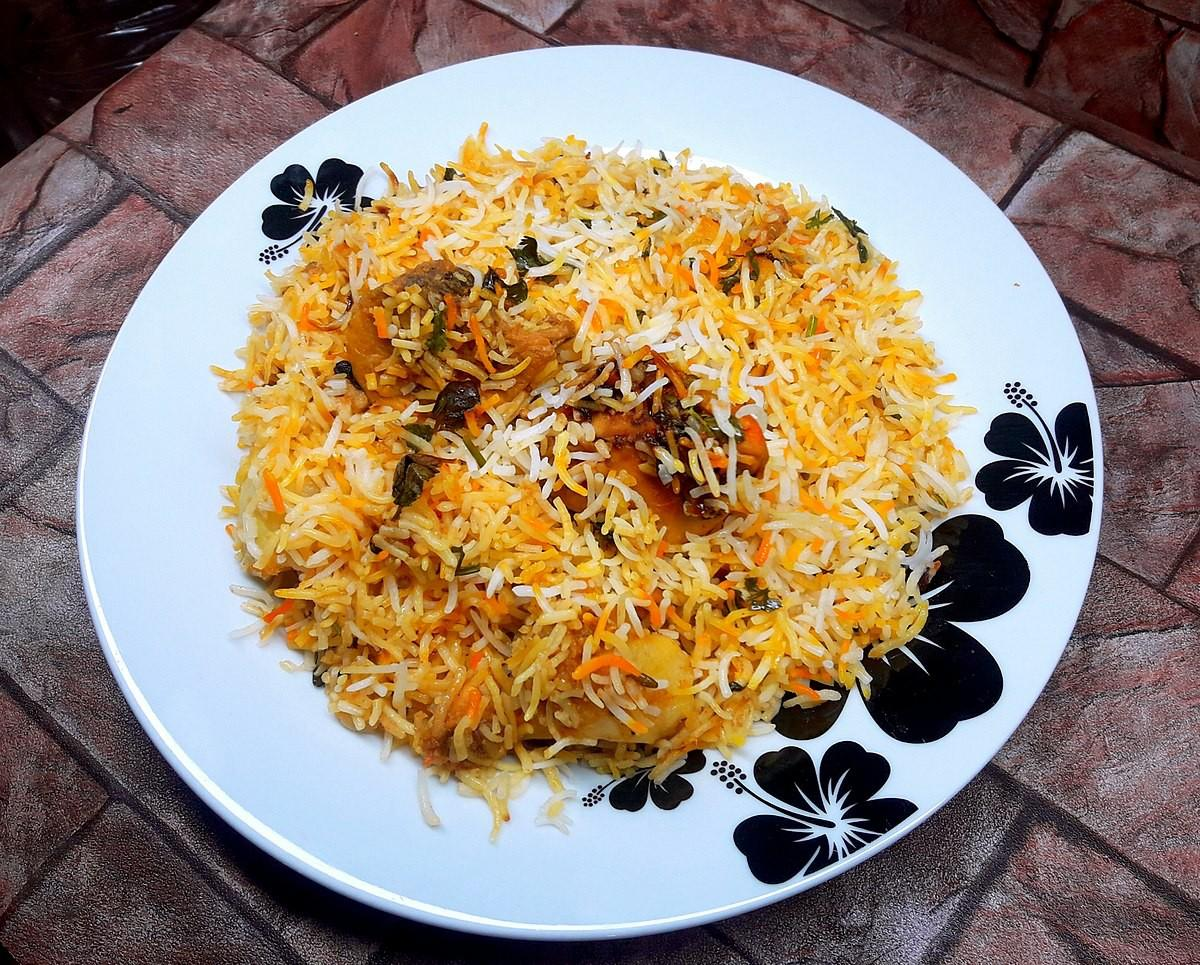Biryani: (227, 130, 959, 787)
